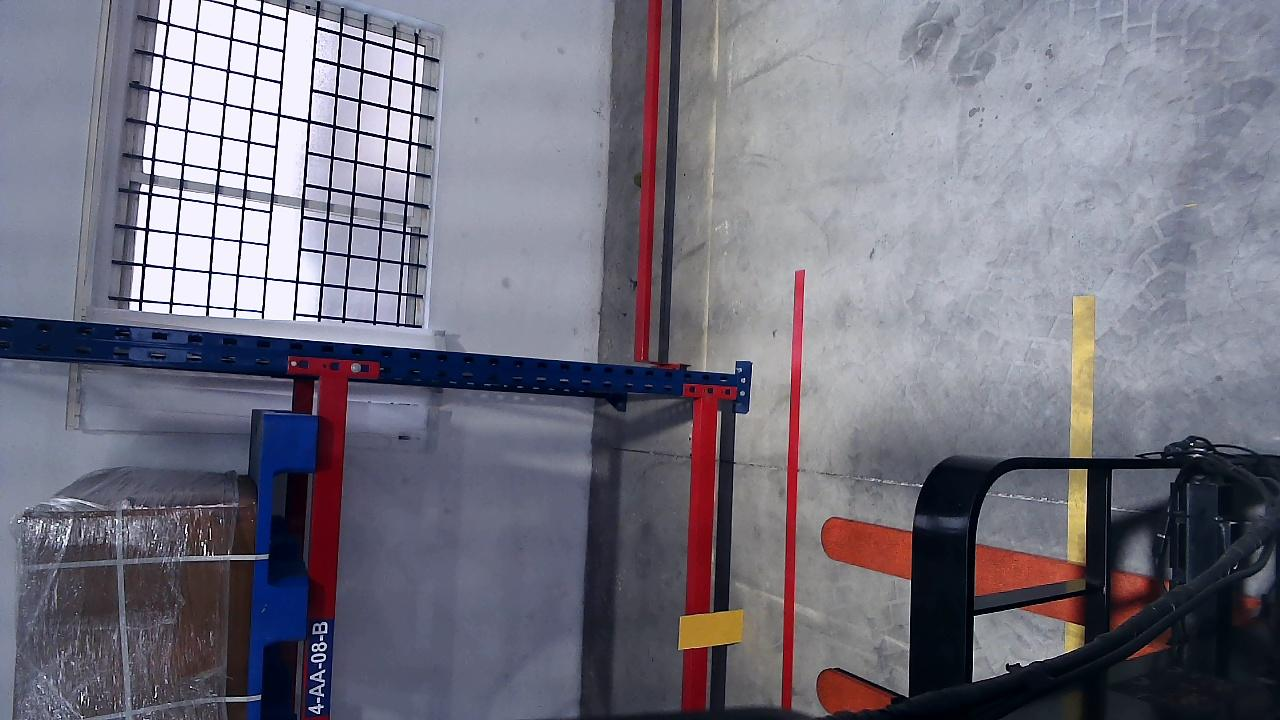h_rack: (303, 373, 351, 719), (687, 399, 721, 712)
orange_strip: (679, 608, 744, 649)
red_line: (779, 394, 802, 712)
small_pallet: (243, 377, 328, 719)
yellow_line: (1067, 294, 1097, 456)
